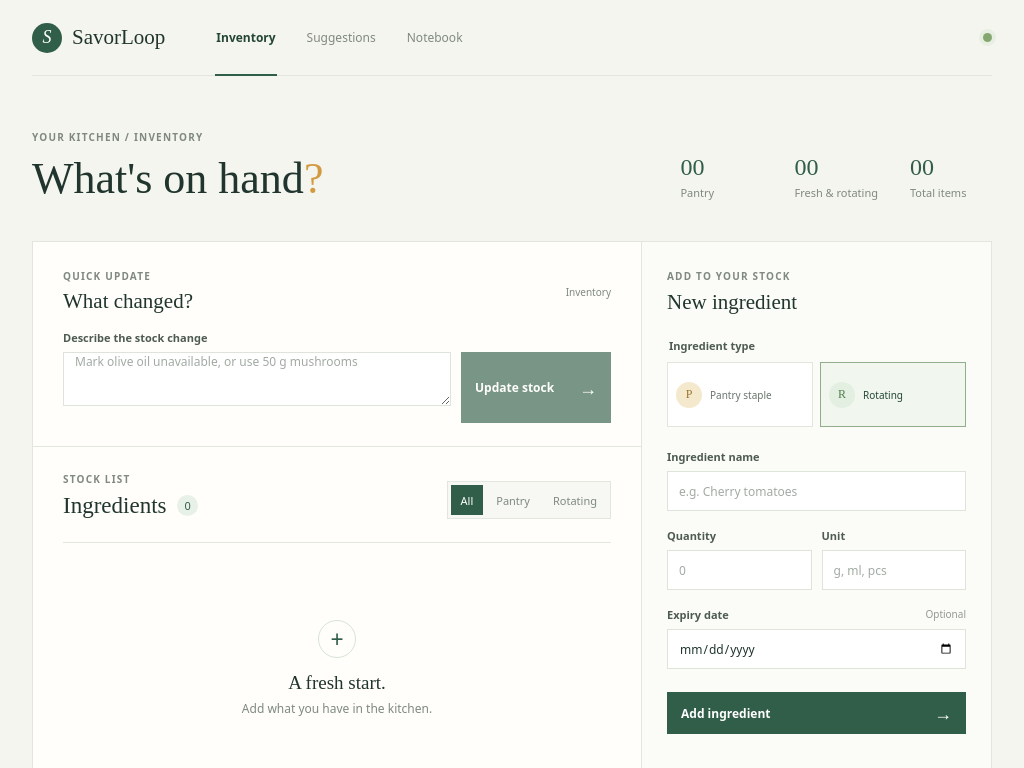
Scenario: Cooking Notebook UI › keeps a suggestion out of the notebook until confirmation and submits only selected liked adjustments
Expected: the heading "A fresh start." is shown, [288,672,386,694]
Click the button "Suggestions": (341, 38) [294,0,389,75]
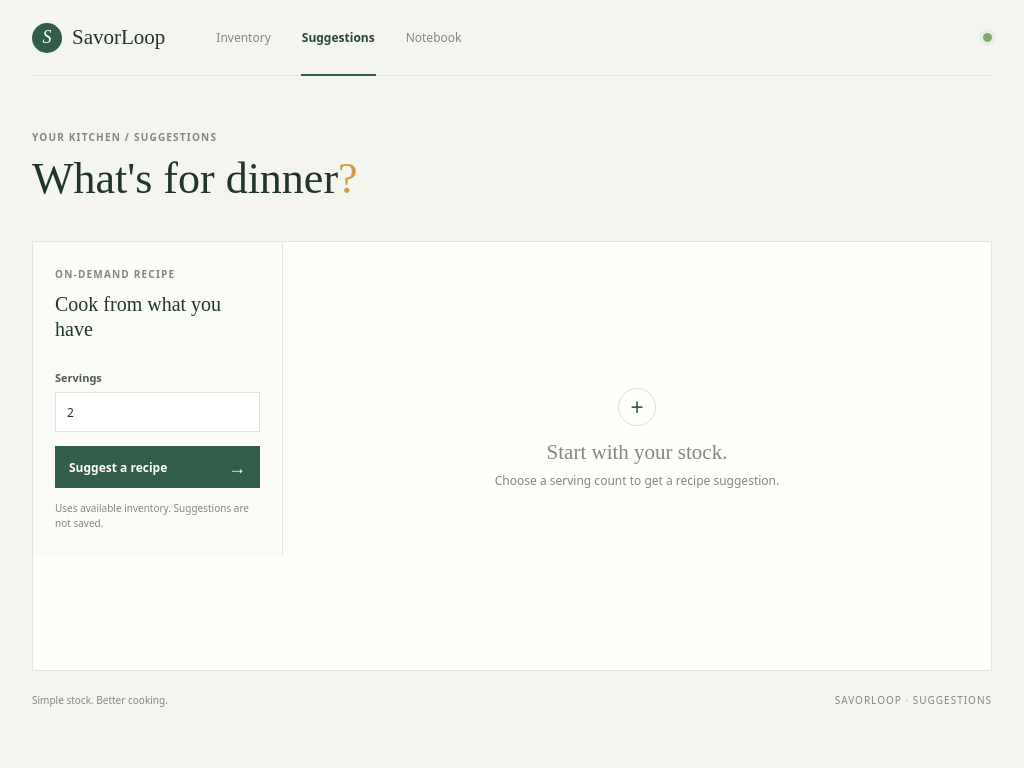
Click the button "Suggest a recipe →": (158, 467) [55,446,260,488]
(page scrolled)
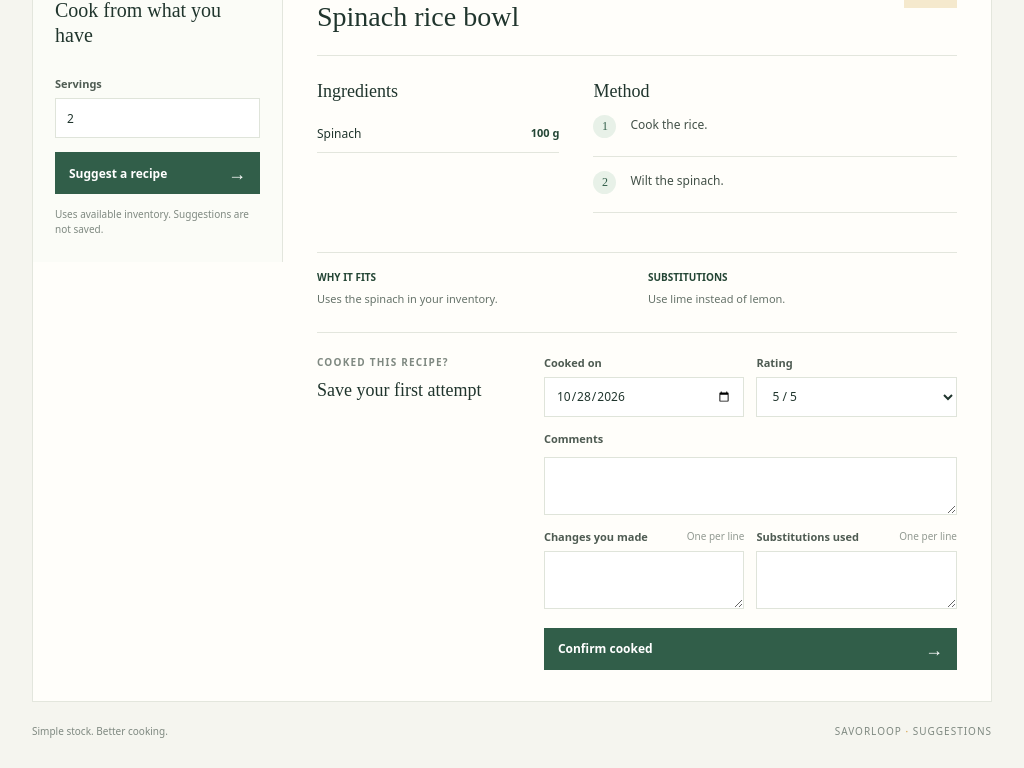
Now the heading "Spinach rice bowl" is shown, box [317,0,519,34]
In the text box labelled "Comments": (750, 486) [544,456,957,514], type "Bright and quick."
In the text box labelled "Changes you made One per line": (644, 580) [544,550,744,608], type "Sesame crunch"
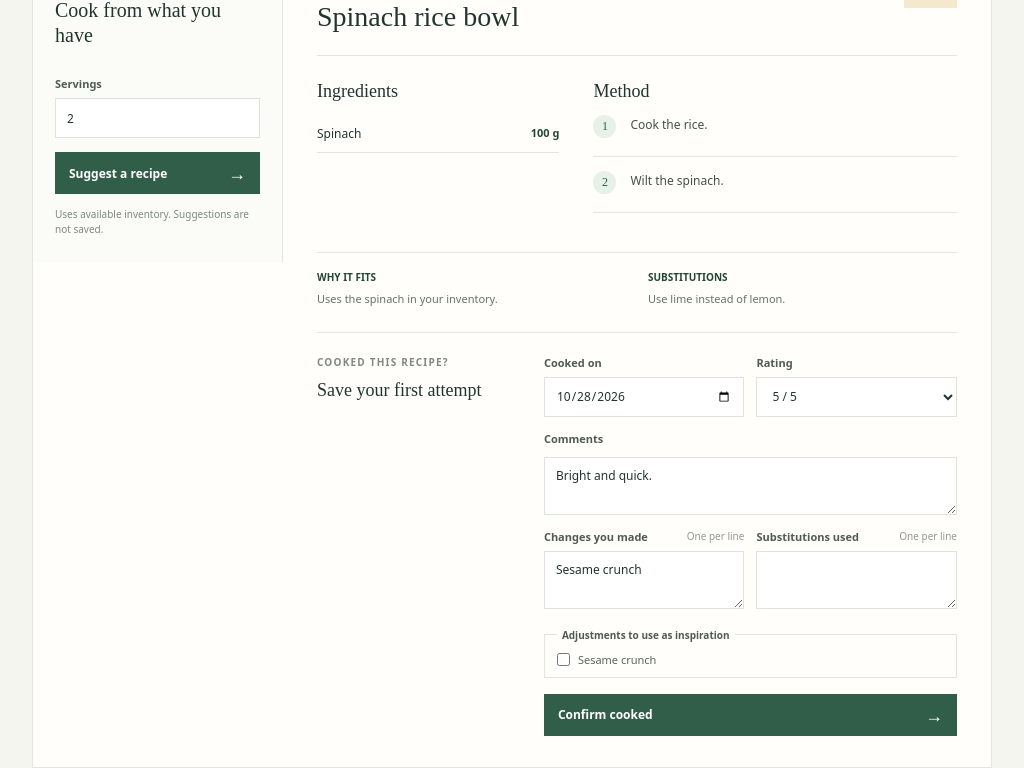
In the text box labelled "Substitutions used One per line": (857, 580) [756,550,957,608], type "Use lime instead of lemon."
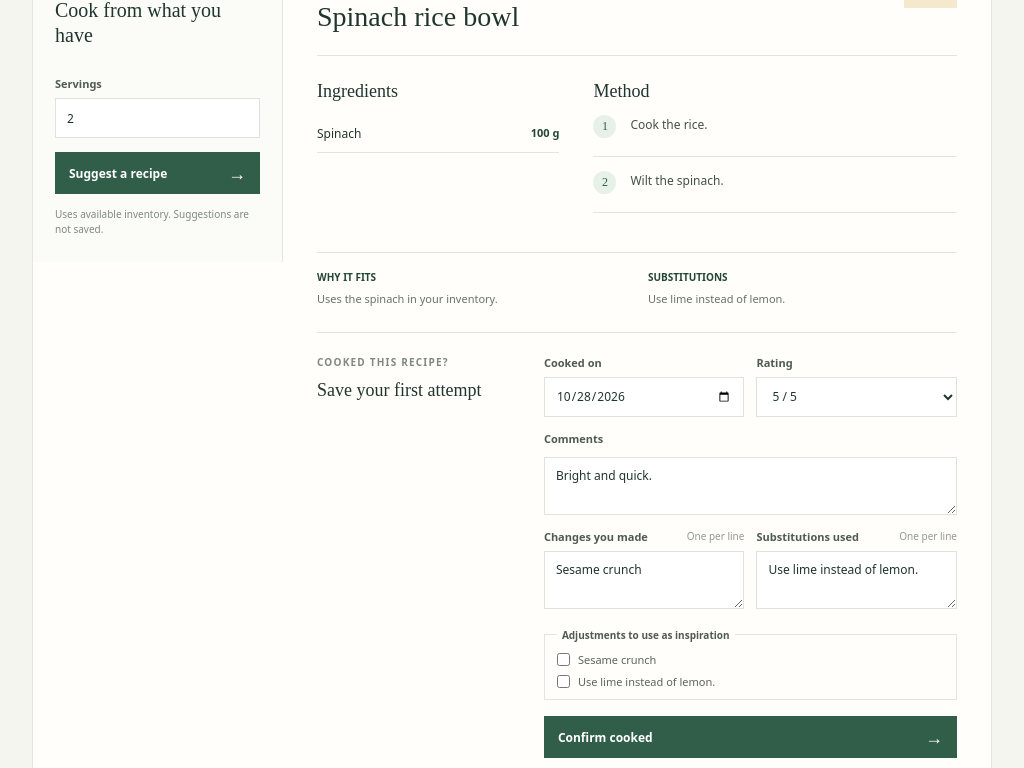
Click the checkbox labelled "Sesame crunch": (563, 659) [557,652,570,666]
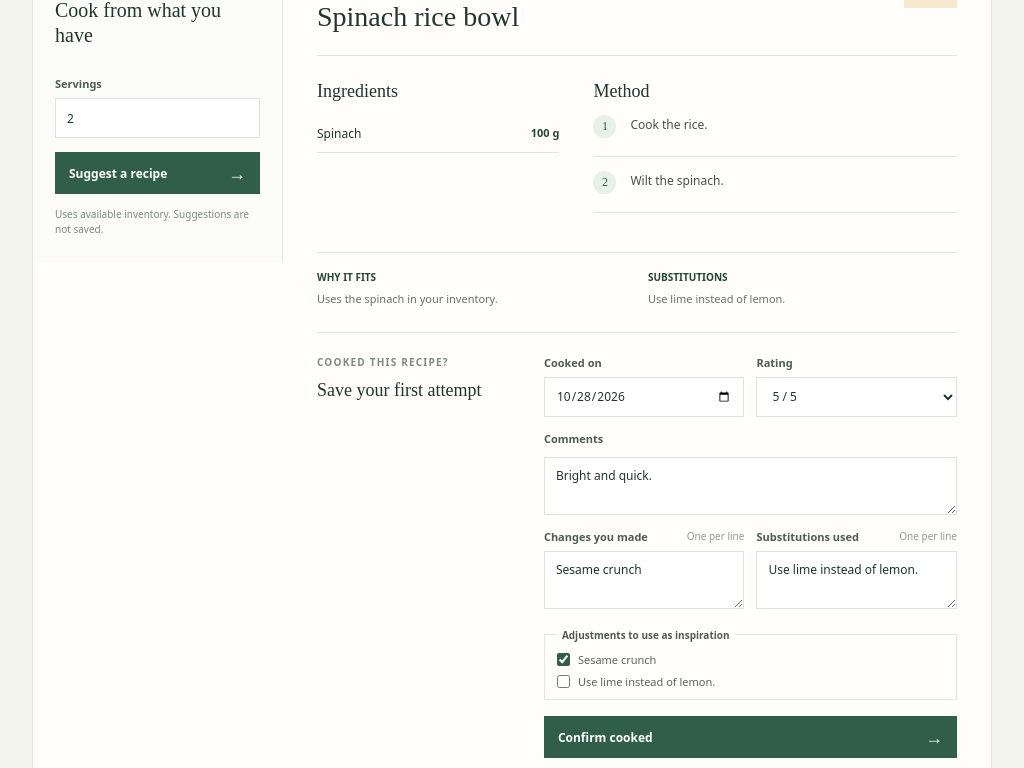
Click the button "Confirm cooked →": (605, 737) [544,716,957,758]
(page scrolled)
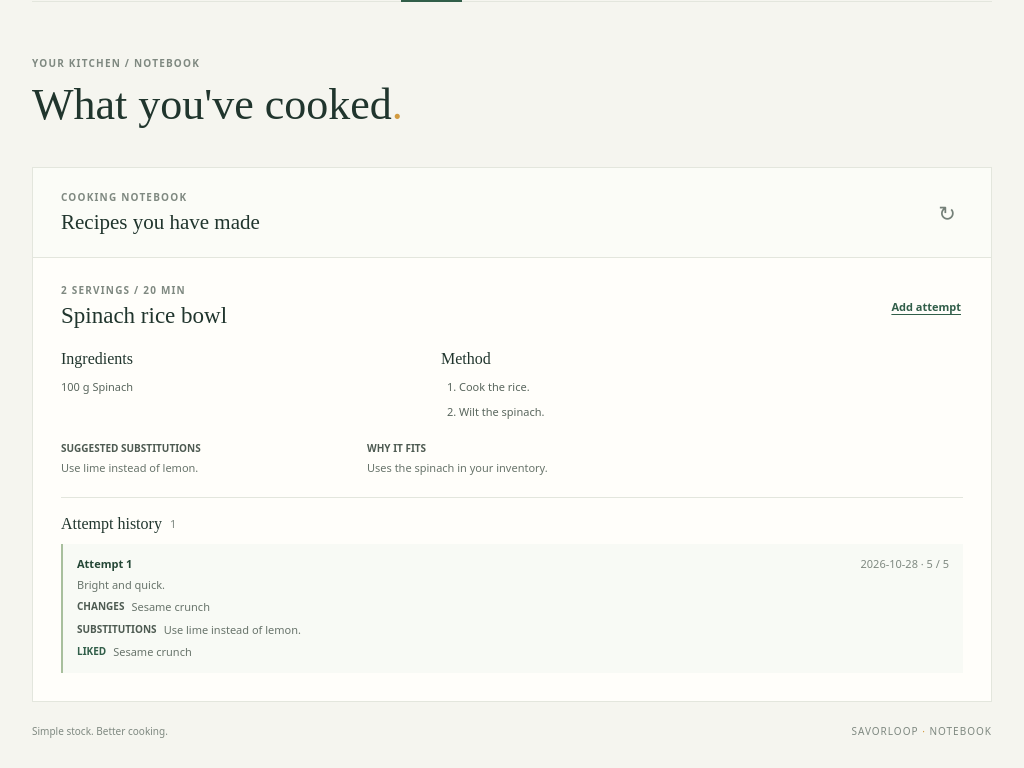
Now the text "Bright and quick." is shown, box [77,577,165,592]
Now the heading "Attempt history 1" is shown, box [61,515,176,532]
